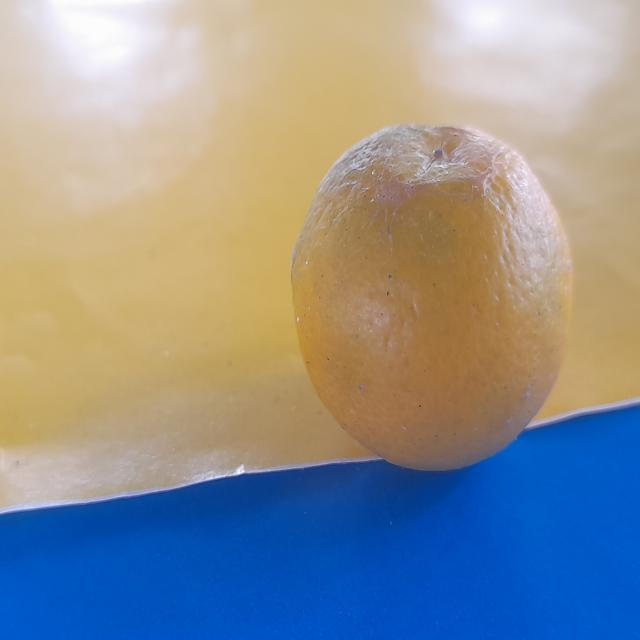greening: (285, 113, 589, 482)
